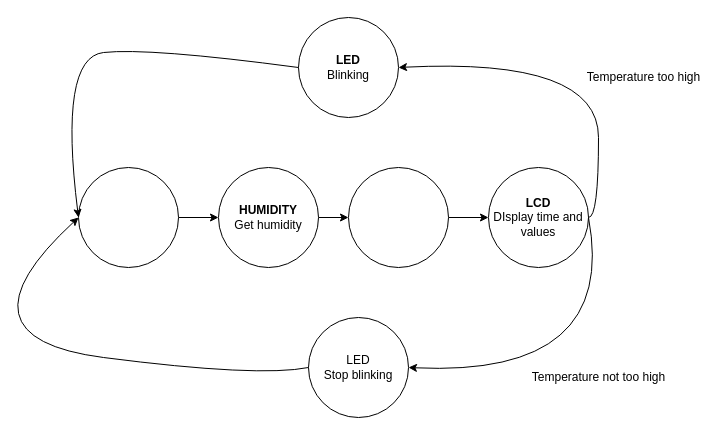
This 726x435 diagram has some shape labels left out. Here are the shapes that lost their labels. From the top down, the box of each, then its label:
(78, 166, 178, 268): IDLE Wait a minute
(348, 166, 448, 268): TEMPERATURE Get temperature
